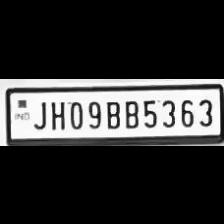0: (66, 97, 84, 129)
3: (194, 93, 214, 126), (160, 96, 176, 127)
5: (140, 96, 158, 127)
6: (178, 96, 195, 126)
9: (85, 97, 103, 129)
B: (102, 97, 122, 129), (122, 96, 140, 128)
H: (46, 97, 66, 128)
J: (30, 97, 48, 129)
